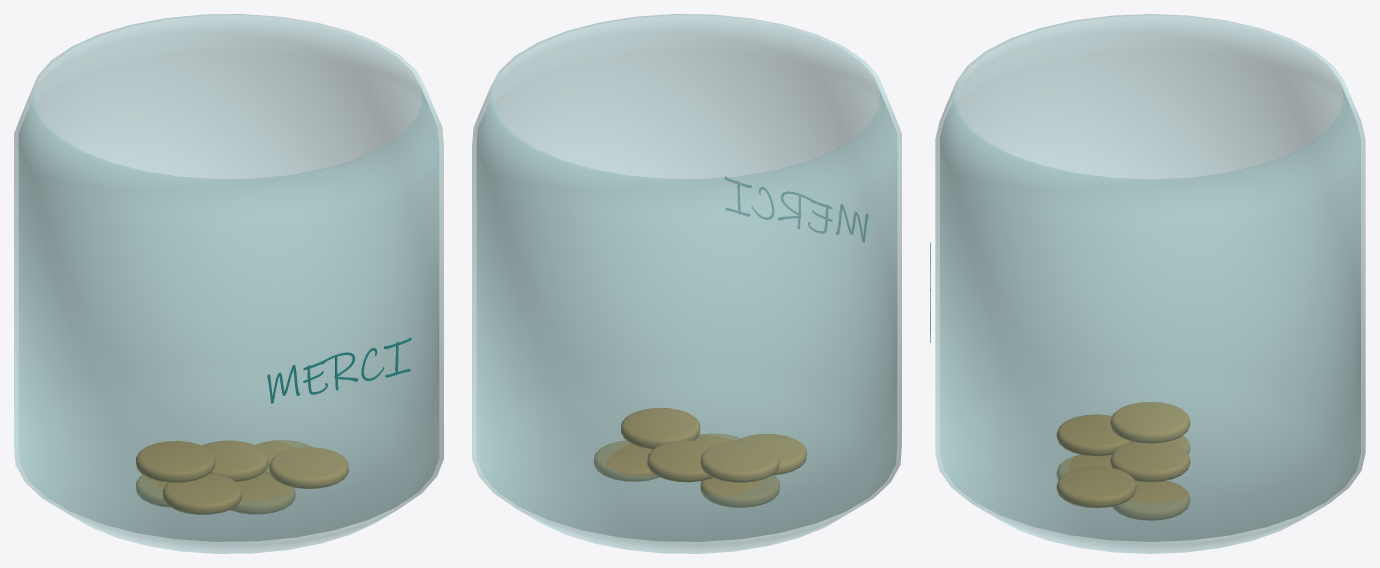
File: tip_jar.glb
3 renders of one model, left to right at view 1: azimuth 30°, elevation 25°; view 2: azimuth 150°, elevation 25°; view 3: azimuth 270°, elevation 25°, orthographic.
Parts seen in each view (by area): view 1: Glass_jar, Coin.006, Coin.005, Coin.003, Coin.004, Coin.001, Flat_tips, Coin, Coin.002; view 2: Glass_jar, Coin.006, Coin.005, Coin.004, Coin.002, Coin, Coin.003, Flat_tips; view 3: Glass_jar, Coin.006, Coin.005, Coin.004, Coin.002, Coin.003, Coin.001.
Boxes of the visible parts, x1=… form: Glass_jar: x1=14, y1=14, x2=443, y2=553; Coin.006: x1=136, y1=441, x2=215, y2=482; Coin.005: x1=269, y1=447, x2=348, y2=488; Coin.003: x1=163, y1=473, x2=242, y2=514; Coin.004: x1=202, y1=440, x2=268, y2=481; Coin.001: x1=230, y1=473, x2=295, y2=514; Flat_tips: x1=267, y1=337, x2=411, y2=403; Coin: x1=136, y1=475, x2=169, y2=507; Coin.002: x1=256, y1=440, x2=311, y2=473; Glass_jar: x1=472, y1=14, x2=901, y2=553; Coin.006: x1=700, y1=441, x2=779, y2=482; Coin.005: x1=621, y1=408, x2=700, y2=449; Coin.004: x1=647, y1=440, x2=713, y2=482; Coin.002: x1=594, y1=441, x2=658, y2=481; Coin: x1=700, y1=475, x2=779, y2=507; Coin.003: x1=737, y1=434, x2=806, y2=475; Flat_tips: x1=724, y1=176, x2=868, y2=241; Glass_jar: x1=935, y1=14, x2=1365, y2=553; Coin.006: x1=1110, y1=402, x2=1190, y2=443; Coin.005: x1=1056, y1=466, x2=1136, y2=507; Coin.004: x1=1110, y1=442, x2=1190, y2=482; Coin.002: x1=1113, y1=480, x2=1189, y2=520; Coin.003: x1=1056, y1=414, x2=1133, y2=456; Coin.001: x1=1057, y1=454, x2=1111, y2=479.
Bounding box in the file's own units: 0.28 × 0.28 × 0.2832.
